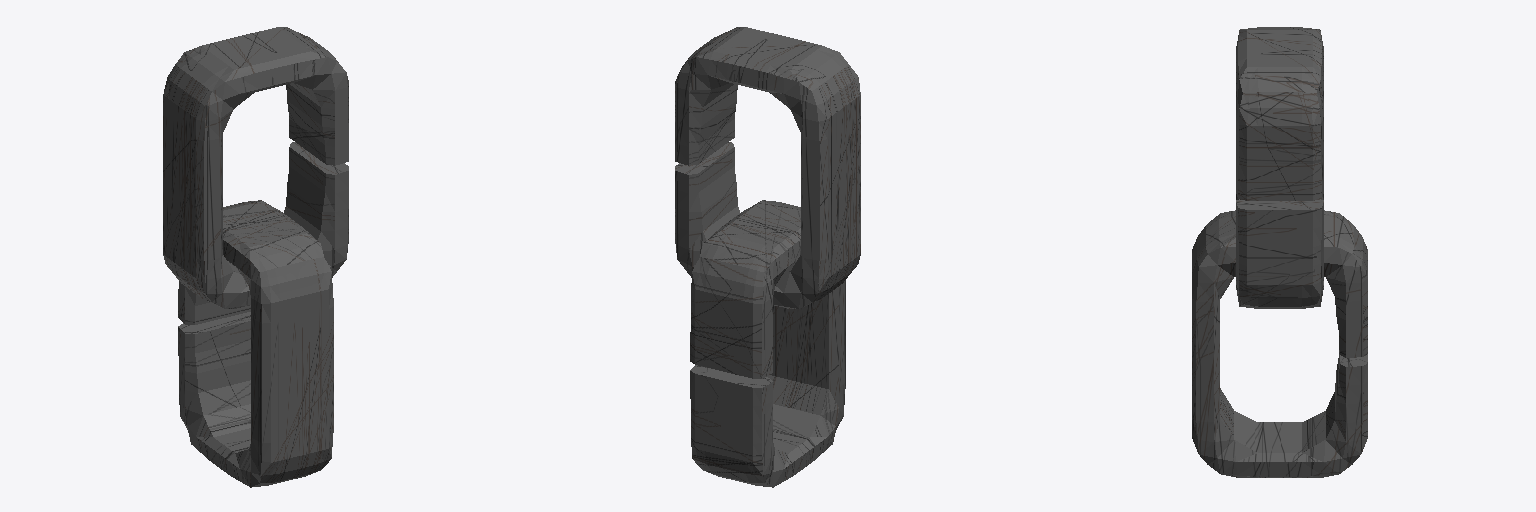
The picture shows the model from 3 angles: view 1: azimuth 30°, elevation 25°; view 2: azimuth 150°, elevation 25°; view 3: azimuth 270°, elevation 25°; orthographic projection.
Visible parts, largest first — view 1: 立方体.001, 立方体; view 2: 立方体.001, 立方体; view 3: 立方体, 立方体.001.
Boxes of the visible parts, box(x1,y1,x2,y2) form: 立方体.001: box(178, 200, 333, 487); 立方体: box(163, 27, 348, 308); 立方体.001: box(690, 200, 845, 487); 立方体: box(675, 27, 860, 308); 立方体: box(1236, 27, 1323, 308); 立方体.001: box(1192, 210, 1367, 477).
Bounding box in the file's own units: 2 × 5.2 × 2.
1 materials, 1 textured.